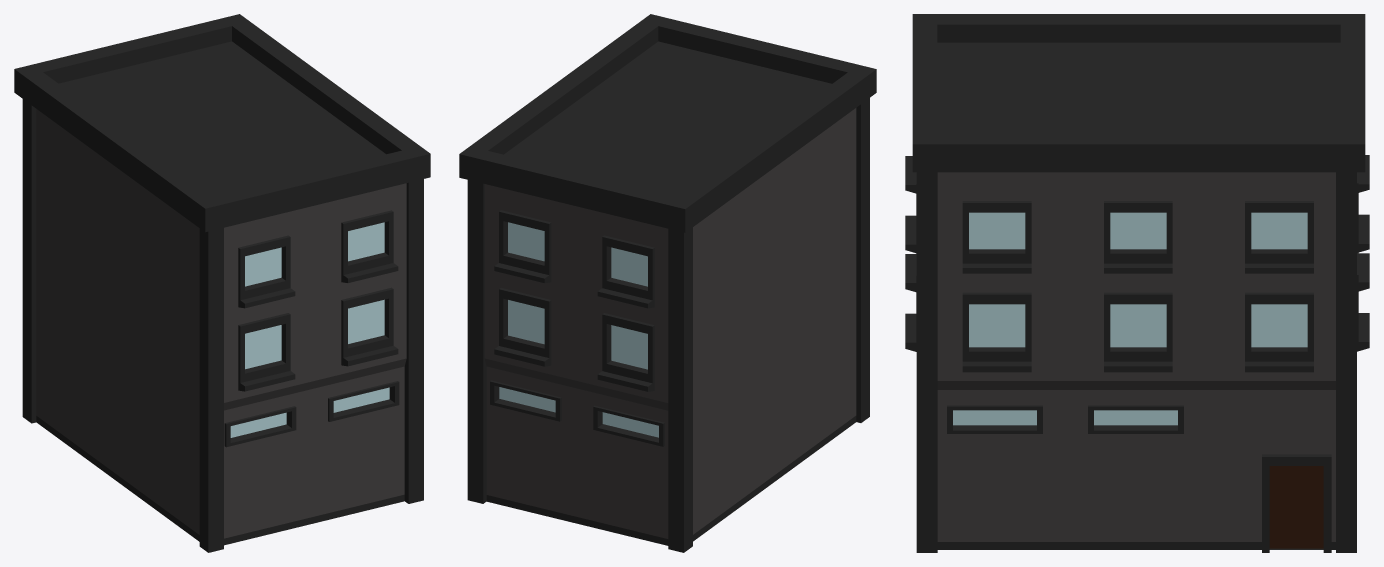
File: house_short_wide_U.fbx
The picture shows the model from 3 angles, left to right: view 1: azimuth 30°, elevation 25°; view 2: azimuth 150°, elevation 25°; view 3: azimuth 270°, elevation 25°; orthographic projection. The views are drawn at different scales.
Parts seen in each view (by area): view 1: Base.115; view 2: Base.115; view 3: Base.115.
Boxes of the visible parts, left/top/right/bottom form: Base.115: left=14, top=14, right=430, bottom=552; Base.115: left=459, top=14, right=876, bottom=552; Base.115: left=905, top=14, right=1369, bottom=552.
Bounding box in the file's own units: 895 × 1285 × 1315.
